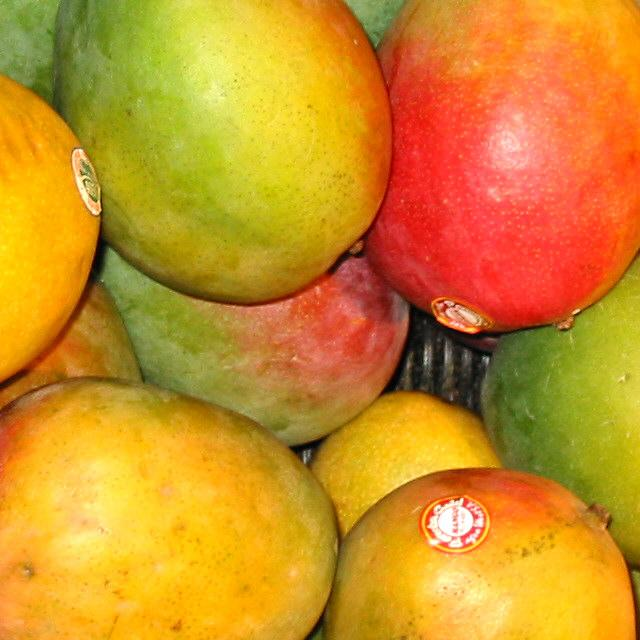mango: (29, 0, 400, 313), (360, 0, 640, 340), (0, 381, 338, 640), (478, 249, 640, 640), (317, 465, 640, 640), (0, 67, 130, 404)
